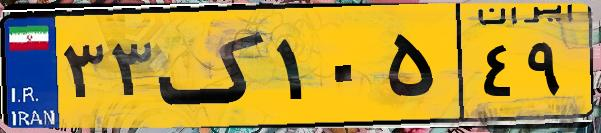0: (330, 28, 385, 110)
1: (270, 28, 330, 110)
3: (57, 26, 110, 100), (110, 28, 158, 98)
4: (475, 38, 525, 113)
5: (385, 28, 445, 110)
9: (525, 38, 570, 115)
ک: (158, 12, 270, 120)
